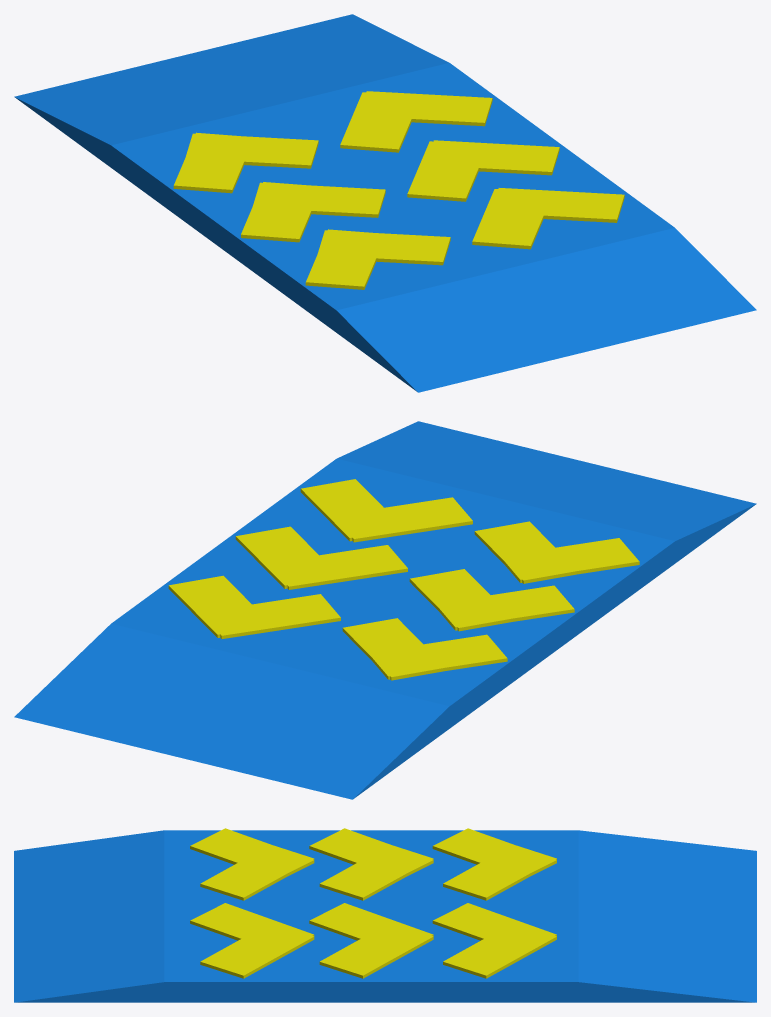
File: boostPadfbx.fbx
The picture shows the model from 3 angles, top to bottom: view 1: azimuth 30°, elevation 25°; view 2: azimuth 150°, elevation 25°; view 3: azimuth 270°, elevation 25°; orthographic projection. The views are drawn at different scales.
Parts seen in each view (by area): view 1: Cube, Cube.005, Cube.012, Cube.003, Cube.009, Cube.004, Cube.008, Cube.006, Cube.002, Cube.007, Cube.010, Cube.011 (+1 smaller); view 2: Cube, Cube.010, Cube.006, Cube.004, Cube.005, Cube.001, Cube.003, Cube.009, Cube.011, Cube.012, Cube.002, Cube.007 (+1 smaller); view 3: Cube, Cube.005, Cube.012, Cube.004, Cube.011, Cube.006, Cube.003, Cube.010, Cube.002, Cube.007, Cube.009, Cube.001 (+1 smaller).
Part boxes in pixels (x1=…): Cube: x1=14, y1=14, x2=756, y2=392; Cube.005: x1=359, y1=91, x2=492, y2=126; Cube.012: x1=491, y1=188, x2=624, y2=222; Cube.003: x1=252, y1=182, x2=385, y2=217; Cube.009: x1=305, y1=229, x2=386, y2=289; Cube.004: x1=426, y1=140, x2=559, y2=175; Cube.008: x1=173, y1=132, x2=254, y2=193; Cube.006: x1=185, y1=133, x2=318, y2=168; Cube.002: x1=407, y1=141, x2=484, y2=201; Cube.007: x1=340, y1=92, x2=418, y2=152; Cube.010: x1=472, y1=189, x2=543, y2=249; Cube.011: x1=318, y1=230, x2=450, y2=265; Cube: x1=14, y1=421, x2=756, y2=799; Cube.010: x1=334, y1=497, x2=472, y2=542; Cube.006: x1=342, y1=618, x2=445, y2=680; Cube.004: x1=235, y1=526, x2=338, y2=588; Cube.005: x1=168, y1=575, x2=271, y2=637; Cube.001: x1=435, y1=585, x2=574, y2=630; Cube.003: x1=409, y1=569, x2=511, y2=631; Cube.009: x1=500, y1=538, x2=639, y2=582; Cube.011: x1=474, y1=521, x2=577, y2=583; Cube.012: x1=300, y1=479, x2=402, y2=541; Cube.002: x1=287, y1=545, x2=407, y2=589; Cube.007: x1=213, y1=594, x2=340, y2=638; Cube: x1=14, y1=830, x2=756, y2=1002; Cube.005: x1=443, y1=922, x2=556, y2=978; Cube.012: x1=200, y1=922, x2=314, y2=978; Cube.004: x1=319, y1=922, x2=433, y2=978; Cube.011: x1=200, y1=844, x2=314, y2=900; Cube.006: x1=443, y1=844, x2=556, y2=900; Cube.003: x1=319, y1=844, x2=433, y2=900; Cube.010: x1=190, y1=903, x2=314, y2=951; Cube.002: x1=309, y1=903, x2=433, y2=952; Cube.007: x1=432, y1=903, x2=556, y2=950; Cube.009: x1=190, y1=828, x2=314, y2=876; Cube.001: x1=309, y1=828, x2=433, y2=876.
Bounding box in the file's own units: 340 × 24.8 × 704.
